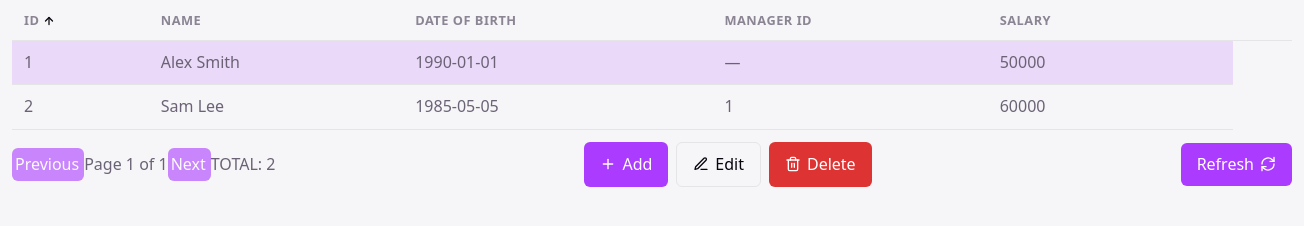
PersonList: row edit mode › starts editing the selected row with the Edit button and fills the inputs
Check: the text "Alex Smith" is shown, box [149,41,403,85]
Click the button "Edit" at (719, 164), box [676,142,761,187]
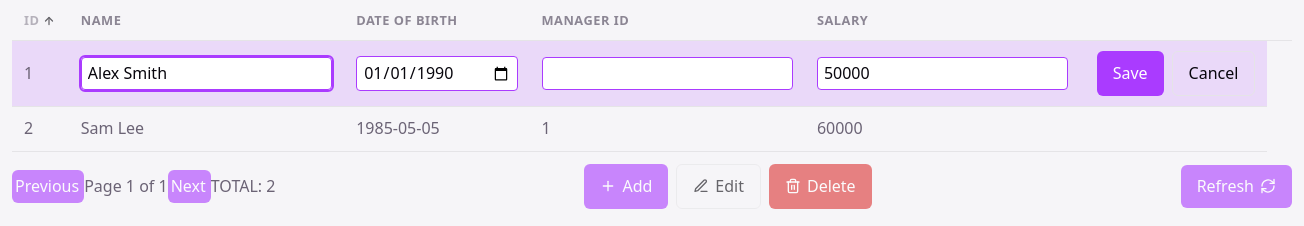
Check: the field named "Name" holds "Alex Smith", box [81,57,332,90]
Check: the date field named "Date of birth" holds "1990-01-01", box [356,56,518,91]
Check: the number field named "Manager Id" is not empty, box [542,57,793,90]
